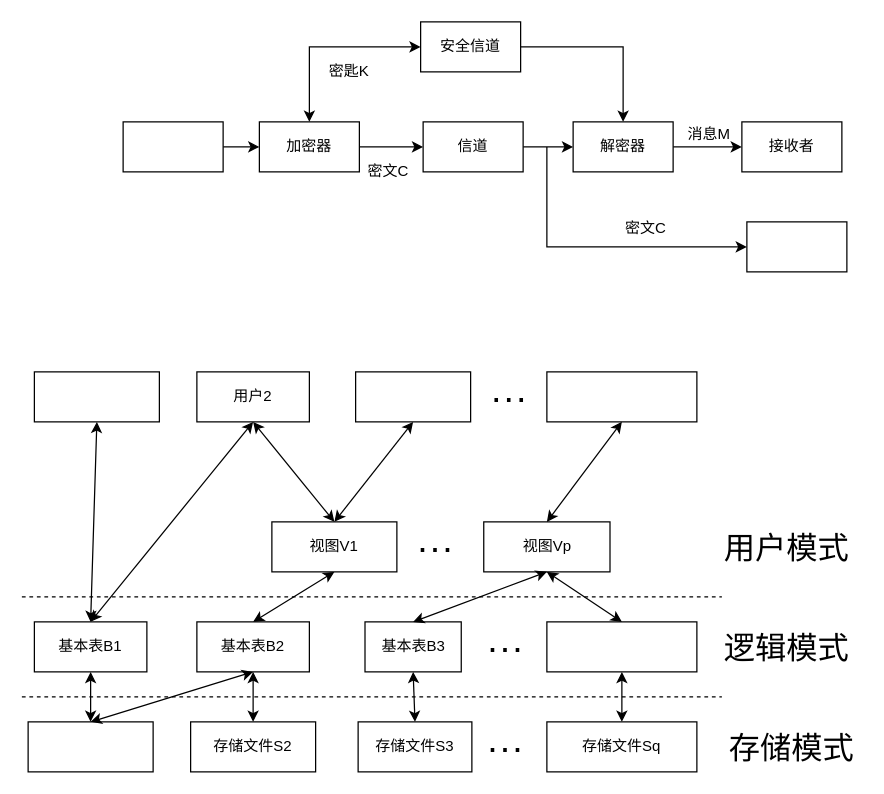
Some shapes in this 884 by 794 pixel diagram are drawn without their labels. The shapes that lost their labels are listed below. From the top down, each one's box as (x1, y1, x2, y2) in pixels, then its label:
(122, 121, 223, 172): 发送者
(746, 221, 847, 272): 分析者
(33, 371, 159, 422): 用户1
(354, 371, 471, 422): 用户3
(546, 371, 697, 422): 用户n
(546, 621, 697, 672): 基本表Bm
(27, 721, 153, 772): 存储文件S1
